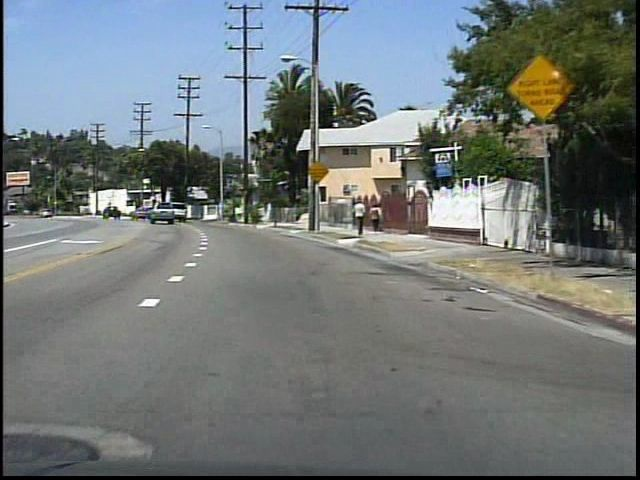person: (350, 196, 368, 239), (367, 200, 384, 235)
